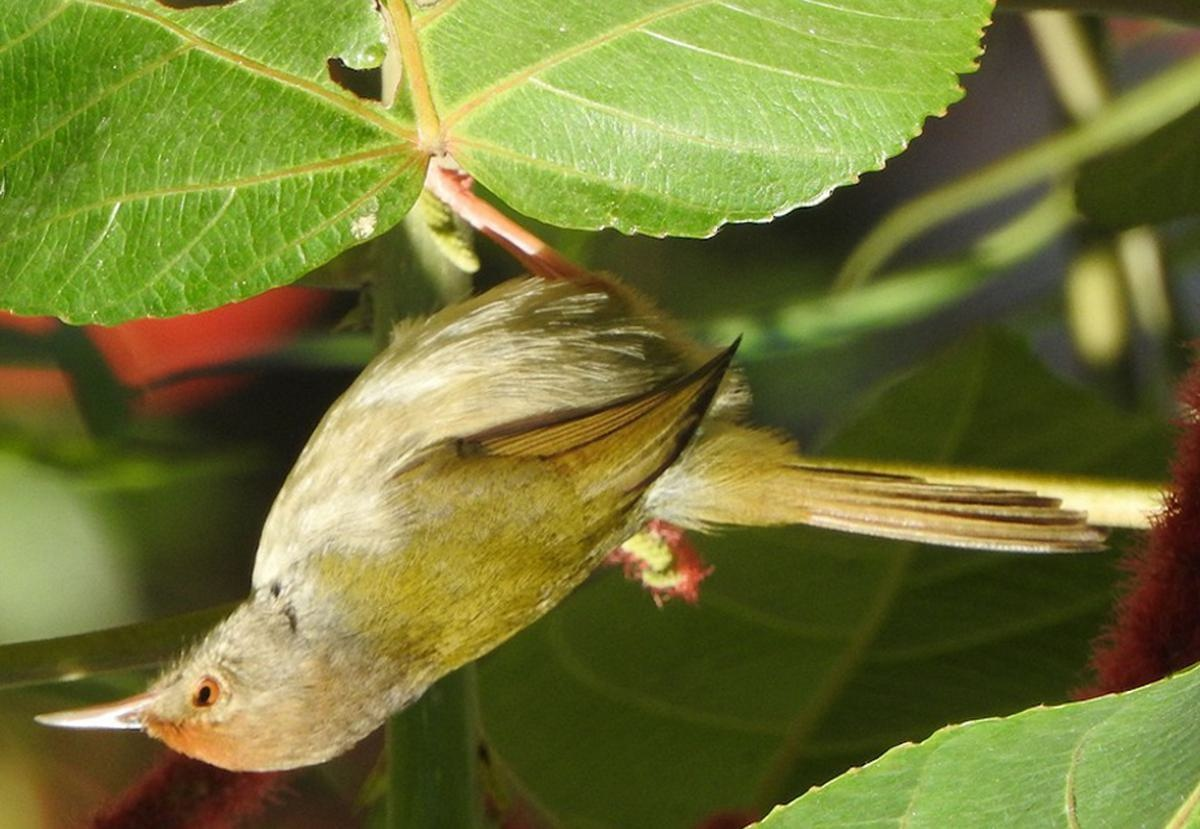tailorbird: (33, 250, 1163, 777)
